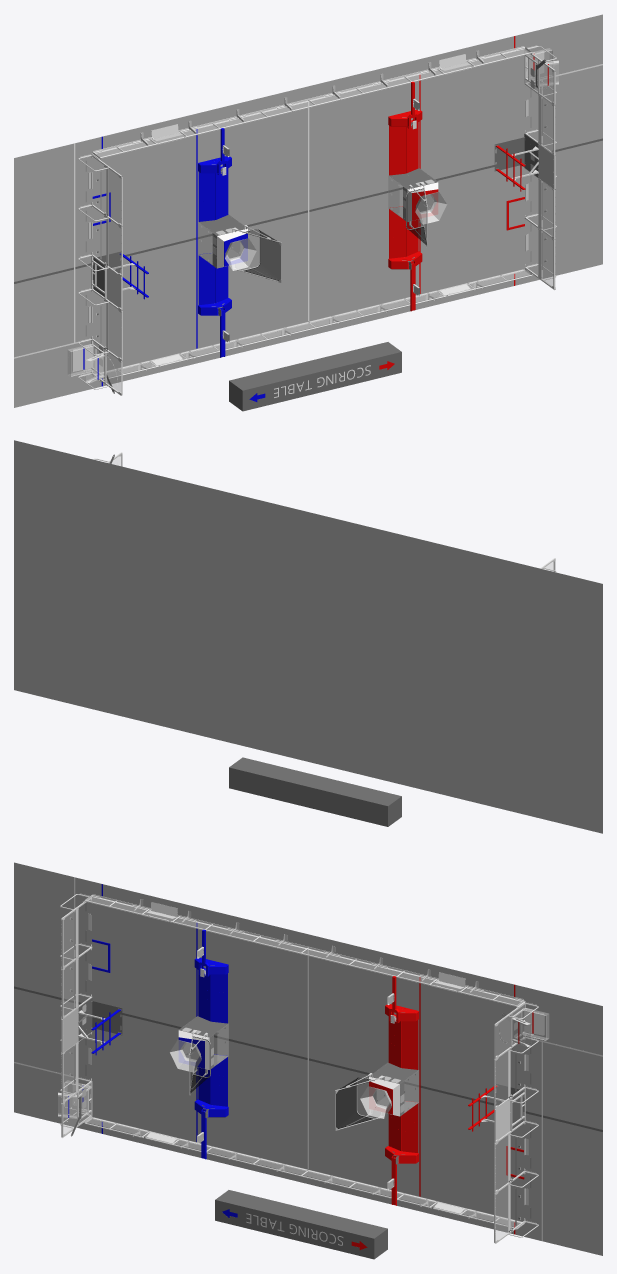
The model's file is rebuilt-field.glb.
3 views of the same model, one above another, from view 1: azimuth 30°, elevation 25°; view 2: azimuth 150°, elevation 25°; view 3: azimuth 330°, elevation 25° (orthographic).
Parts seen in each view (by area): view 1: CARPET_808080, SCORING_TABLE_303030, GUARDRAIL_E6E6E6, GUARDRAIL_E6E6E6a20, BUMP_blue_0000FF, BUMP_red_FF0000, DRIVER_STATION_red_E6E6E6a20, DRIVER_STATION_blue_E6E6E6a20, DRIVER_STATION_blue_E6E6E6, TAPE_FFFFFF, DRIVER_STATION_red_E6E6E6, TRENCH_blue_0000FF (+19 smaller); view 2: CARPET_808080, SCORING_TABLE_303030; view 3: CARPET_808080, SCORING_TABLE_303030, GUARDRAIL_E6E6E6, GUARDRAIL_E6E6E6a20, BUMP_red_FF0000, BUMP_blue_0000FF, DRIVER_STATION_blue_E6E6E6a20, DRIVER_STATION_red_E6E6E6a20, DRIVER_STATION_red_E6E6E6, TAPE_FFFFFF, DRIVER_STATION_blue_E6E6E6, TRENCH_red_FF0000 (+19 smaller).
Boxes of the visible parts, x1=… form: CARPET_808080: x1=14, y1=14, x2=602, y2=407; SCORING_TABLE_303030: x1=229, y1=342, x2=401, y2=411; GUARDRAIL_E6E6E6: x1=92, y1=46, x2=532, y2=381; GUARDRAIL_E6E6E6a20: x1=96, y1=49, x2=530, y2=378; BUMP_blue_0000FF: x1=198, y1=169, x2=228, y2=304; BUMP_red_FF0000: x1=389, y1=122, x2=418, y2=258; DRIVER_STATION_red_E6E6E6a20: x1=538, y1=94, x2=553, y2=288; DRIVER_STATION_blue_E6E6E6a20: x1=109, y1=169, x2=120, y2=357; DRIVER_STATION_blue_E6E6E6: x1=78, y1=153, x2=122, y2=395; TAPE_FFFFFF: x1=14, y1=50, x2=602, y2=376; DRIVER_STATION_red_E6E6E6: x1=524, y1=45, x2=556, y2=289; TRENCH_blue_0000FF: x1=198, y1=128, x2=231, y2=357; CARPET_808080: x1=14, y1=440, x2=602, y2=833; SCORING_TABLE_303030: x1=229, y1=757, x2=401, y2=826; CARPET_808080: x1=14, y1=862, x2=602, y2=1255; SCORING_TABLE_303030: x1=215, y1=1190, x2=387, y2=1259; GUARDRAIL_E6E6E6: x1=84, y1=894, x2=524, y2=1229; GUARDRAIL_E6E6E6a20: x1=86, y1=897, x2=521, y2=1226; BUMP_red_FF0000: x1=388, y1=1017, x2=418, y2=1152; BUMP_blue_0000FF: x1=198, y1=970, x2=227, y2=1106; DRIVER_STATION_blue_E6E6E6a20: x1=63, y1=908, x2=78, y2=1101; DRIVER_STATION_red_E6E6E6a20: x1=496, y1=1051, x2=507, y2=1239; DRIVER_STATION_red_E6E6E6: x1=494, y1=1001, x2=538, y2=1243; TAPE_FFFFFF: x1=14, y1=877, x2=602, y2=1241; DRIVER_STATION_blue_E6E6E6: x1=60, y1=893, x2=92, y2=1137; TRENCH_red_FF0000: x1=385, y1=976, x2=418, y2=1205.
Size of what is drawn, in the model's own units: 22.56 by 10.82 by 3.06.
